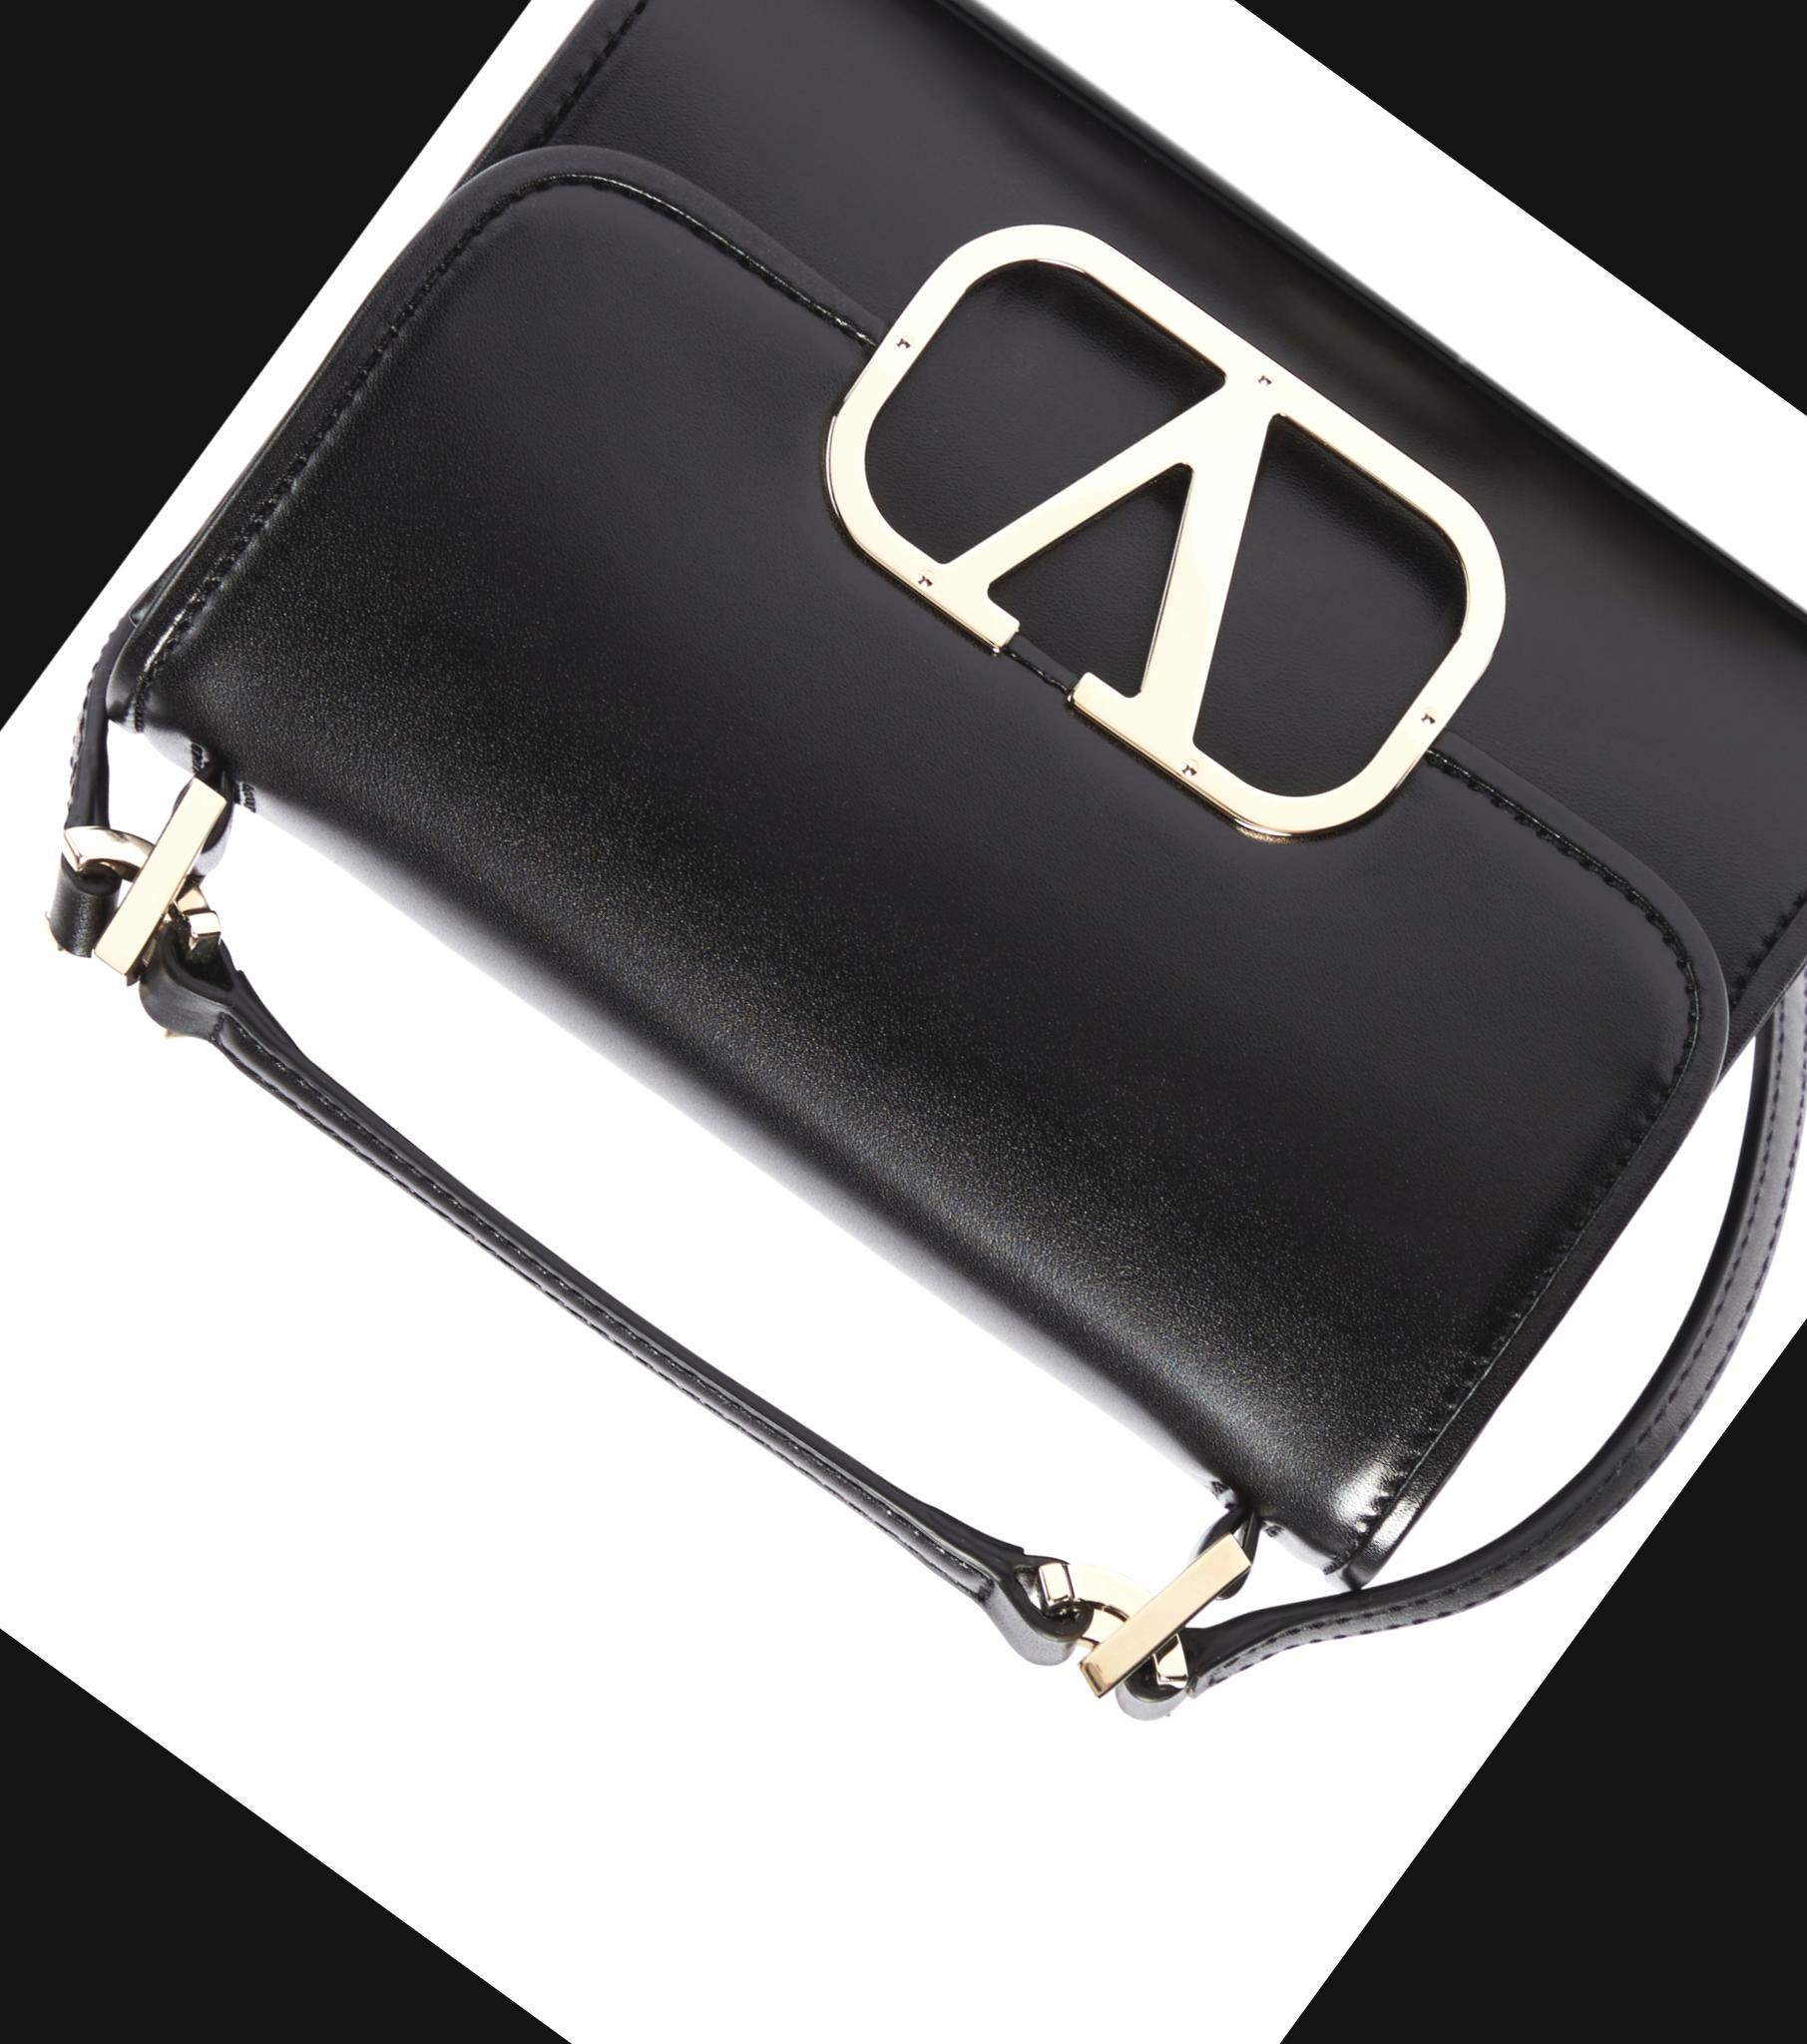VALENTINO: (771, 159, 1563, 886)
